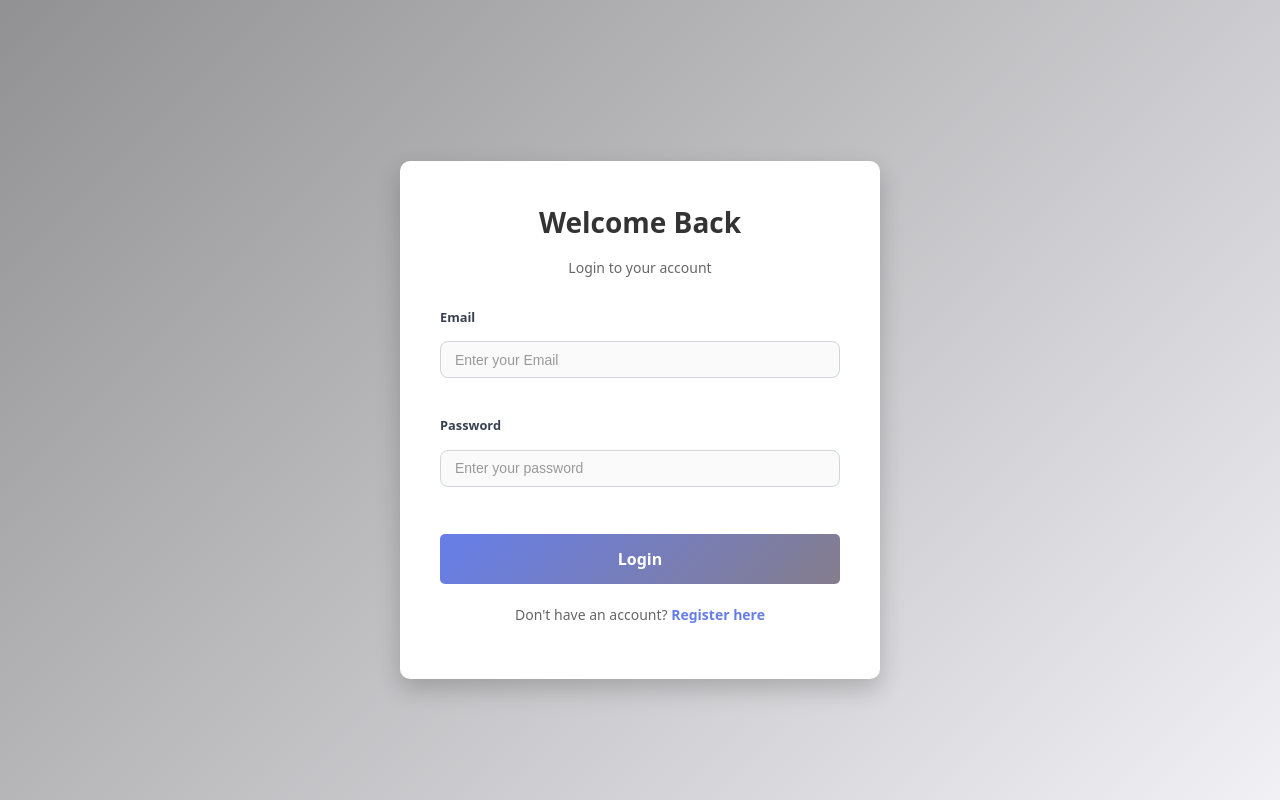
Scenario: Login — loading state › disables the button while logging in
This screenshot has width=1280, height=800.
Type "user@test.com" into the field labelled "Email" at (640,360), box top-left (440, 341), bottom-right (840, 378)
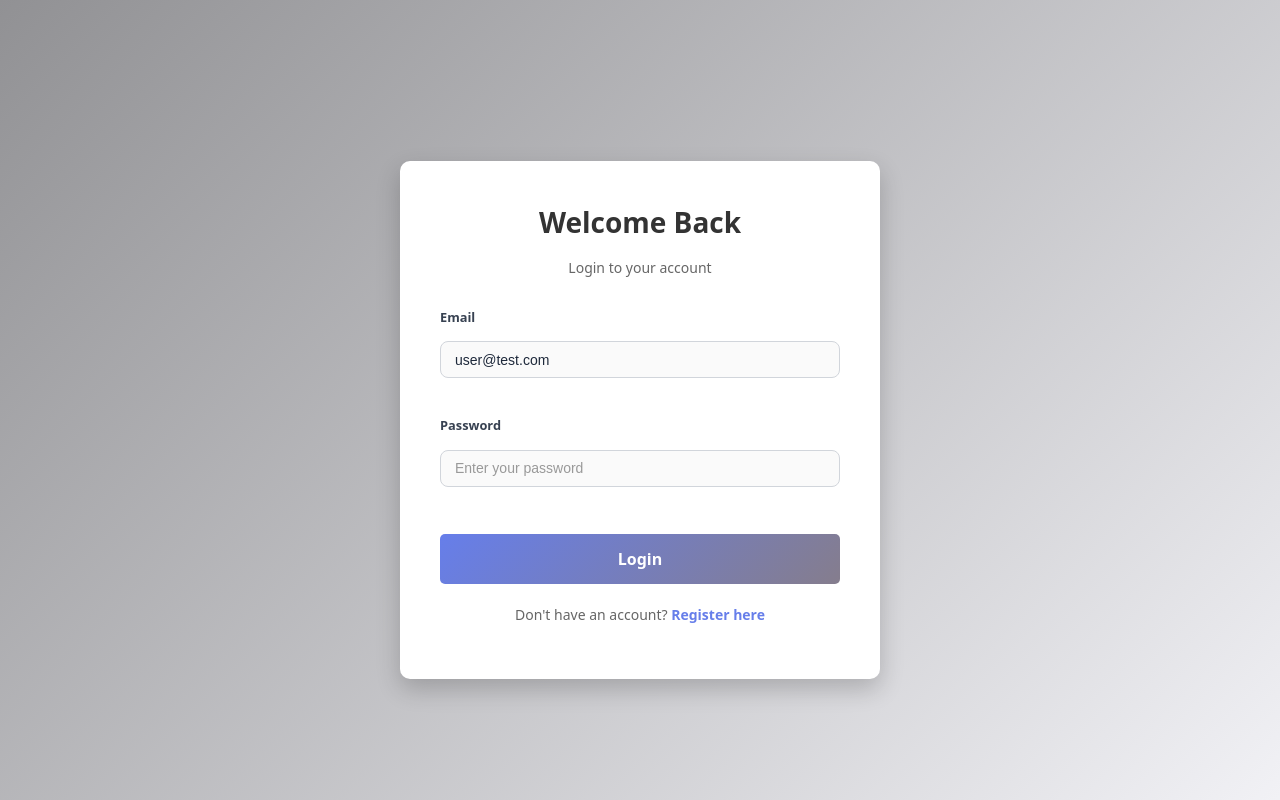
Type "pass" into the password field labelled "Password" at (640,468), box top-left (440, 450), bottom-right (840, 487)
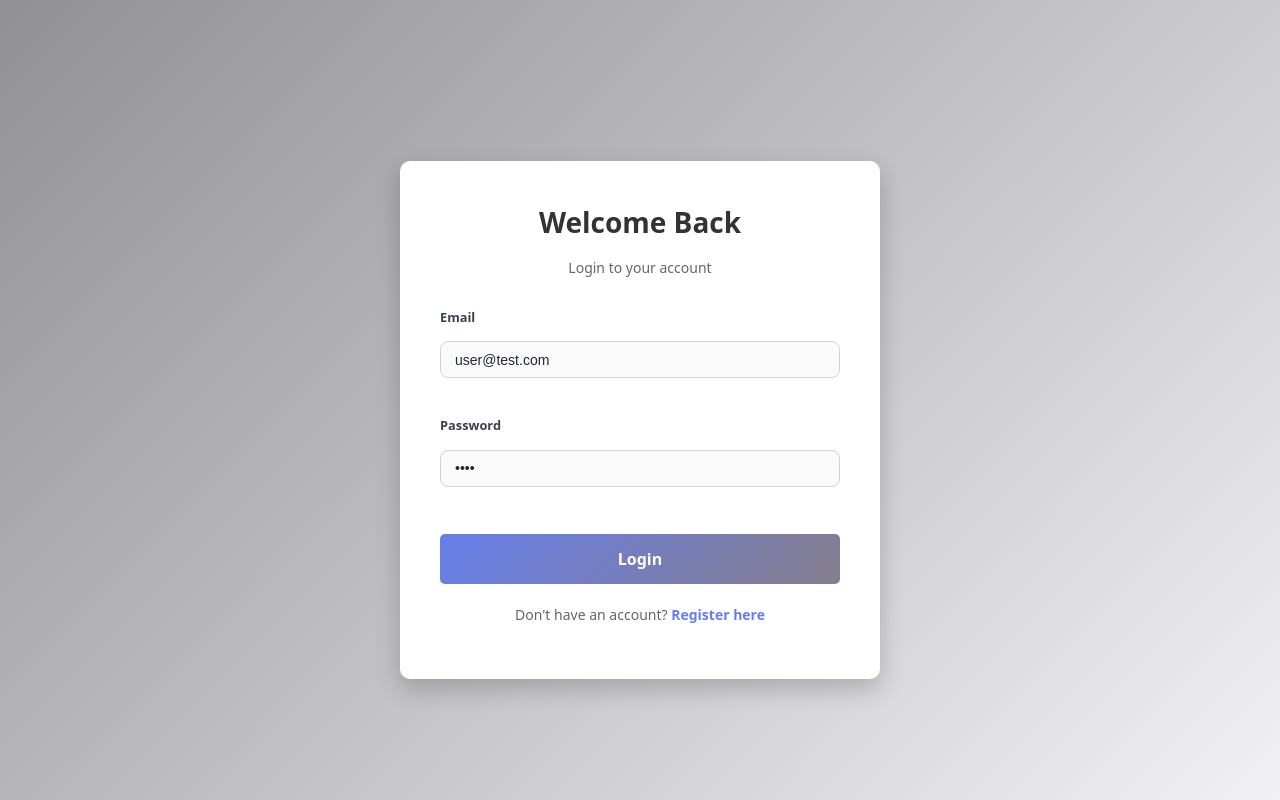
Click the button "Login" at (640,559), box top-left (440, 534), bottom-right (840, 584)
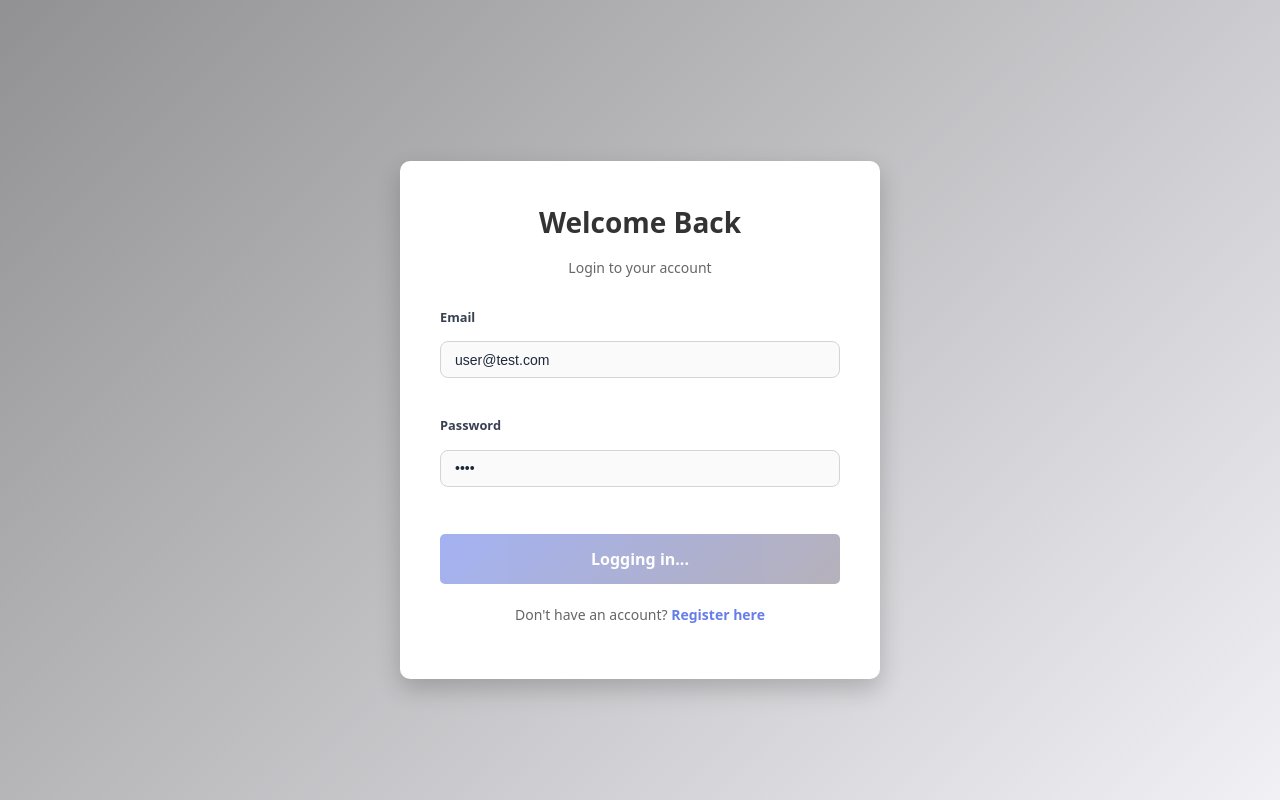
Expected: the button "Logging in..." is disabled, top-left (440, 534), bottom-right (840, 584)
